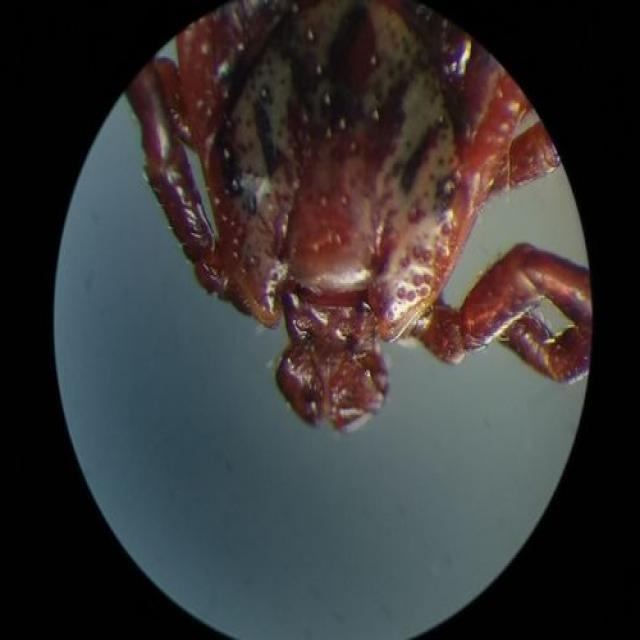Dermacentor Reticulatus-F: (125, 0, 591, 433)
